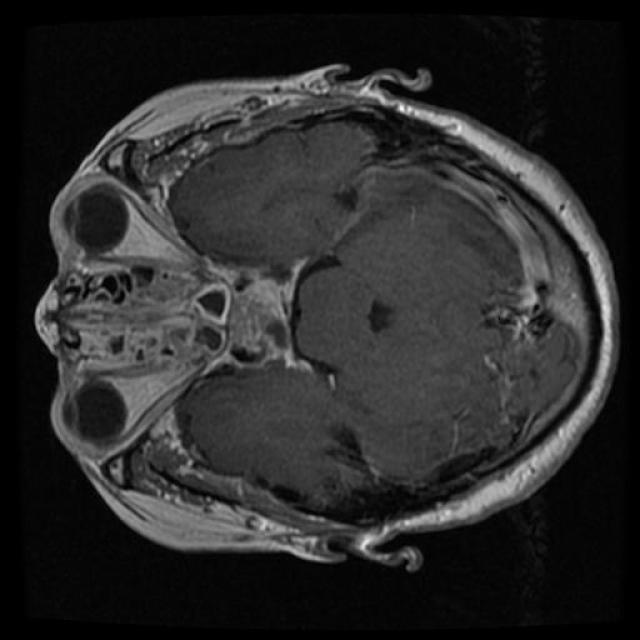Pituitary: (226, 261, 316, 372)
